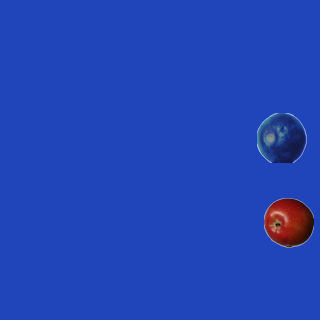Apple Braeburn: (263, 197, 313, 247)
Huckleberry: (256, 112, 306, 162)
